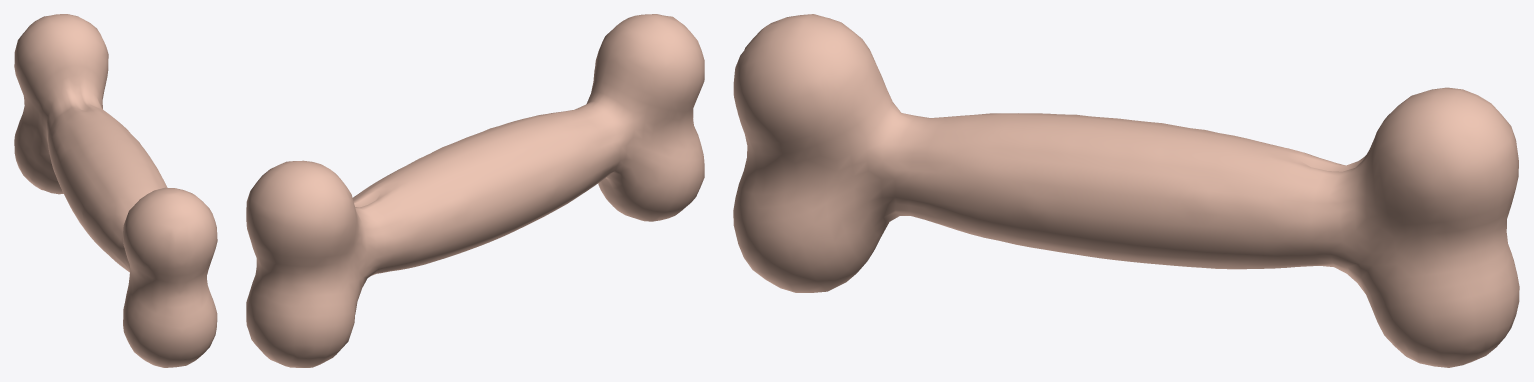
The model's file is bone.fbx.
The picture shows the model from 3 angles, left to right: view 1: azimuth 30°, elevation 25°; view 2: azimuth 150°, elevation 25°; view 3: azimuth 270°, elevation 25°; orthographic projection. The views are drawn at different scales.
Parts seen in each view (by area): view 1: Mball.003; view 2: Mball.003; view 3: Mball.003.
Part boxes in pixels (left/top/right/bottom): Mball.003: left=14, top=14, right=217, bottom=367; Mball.003: left=246, top=14, right=704, bottom=367; Mball.003: left=733, top=14, right=1519, bottom=367.
Size of the model in its own units: 84.67 by 77.51 by 208.
